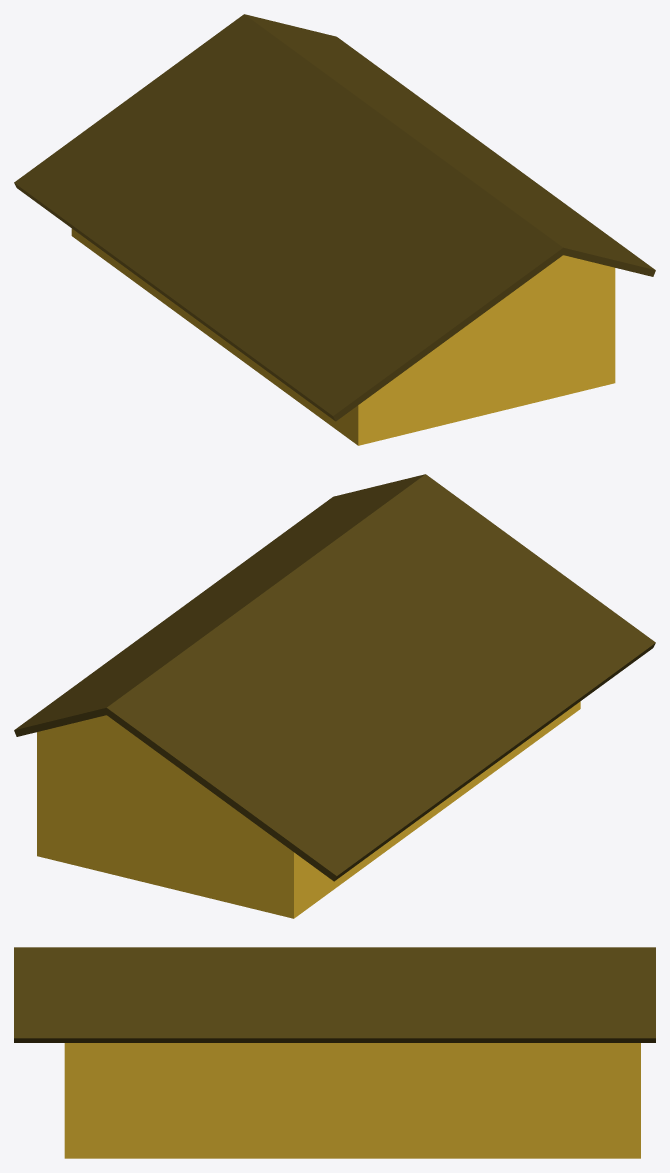
The model's file is result.dae.
3 views of the same model, one above another, from view 1: azimuth 30°, elevation 25°; view 2: azimuth 150°, elevation 25°; view 3: azimuth 270°, elevation 25° (orthographic).
Visible parts, largest first — view 1: cb08c573-ffa7-4286-b029-045013b4d163__undefined (×5), d4efc176-4e04-4b47-97ae-021c3a24f23b__undefined (×2); view 2: cb08c573-ffa7-4286-b029-045013b4d163__undefined (×5), d4efc176-4e04-4b47-97ae-021c3a24f23b__undefined (×2); view 3: d4efc176-4e04-4b47-97ae-021c3a24f23b__undefined, cb08c573-ffa7-4286-b029-045013b4d163__undefined (×2).
Boxes of the visible parts, x1=… form: cb08c573-ffa7-4286-b029-045013b4d163__undefined (×5): x1=14, y1=14, x2=655, y2=421; d4efc176-4e04-4b47-97ae-021c3a24f23b__undefined (×2): x1=71, y1=228, x2=615, y2=445; cb08c573-ffa7-4286-b029-045013b4d163__undefined (×5): x1=14, y1=474, x2=655, y2=881; d4efc176-4e04-4b47-97ae-021c3a24f23b__undefined (×2): x1=37, y1=701, x2=580, y2=918; d4efc176-4e04-4b47-97ae-021c3a24f23b__undefined: x1=64, y1=1043, x2=640, y2=1158; cb08c573-ffa7-4286-b029-045013b4d163__undefined (×2): x1=14, y1=947, x2=655, y2=1042.
Size of the model in its own units: 1254 by 641 by 2147.
